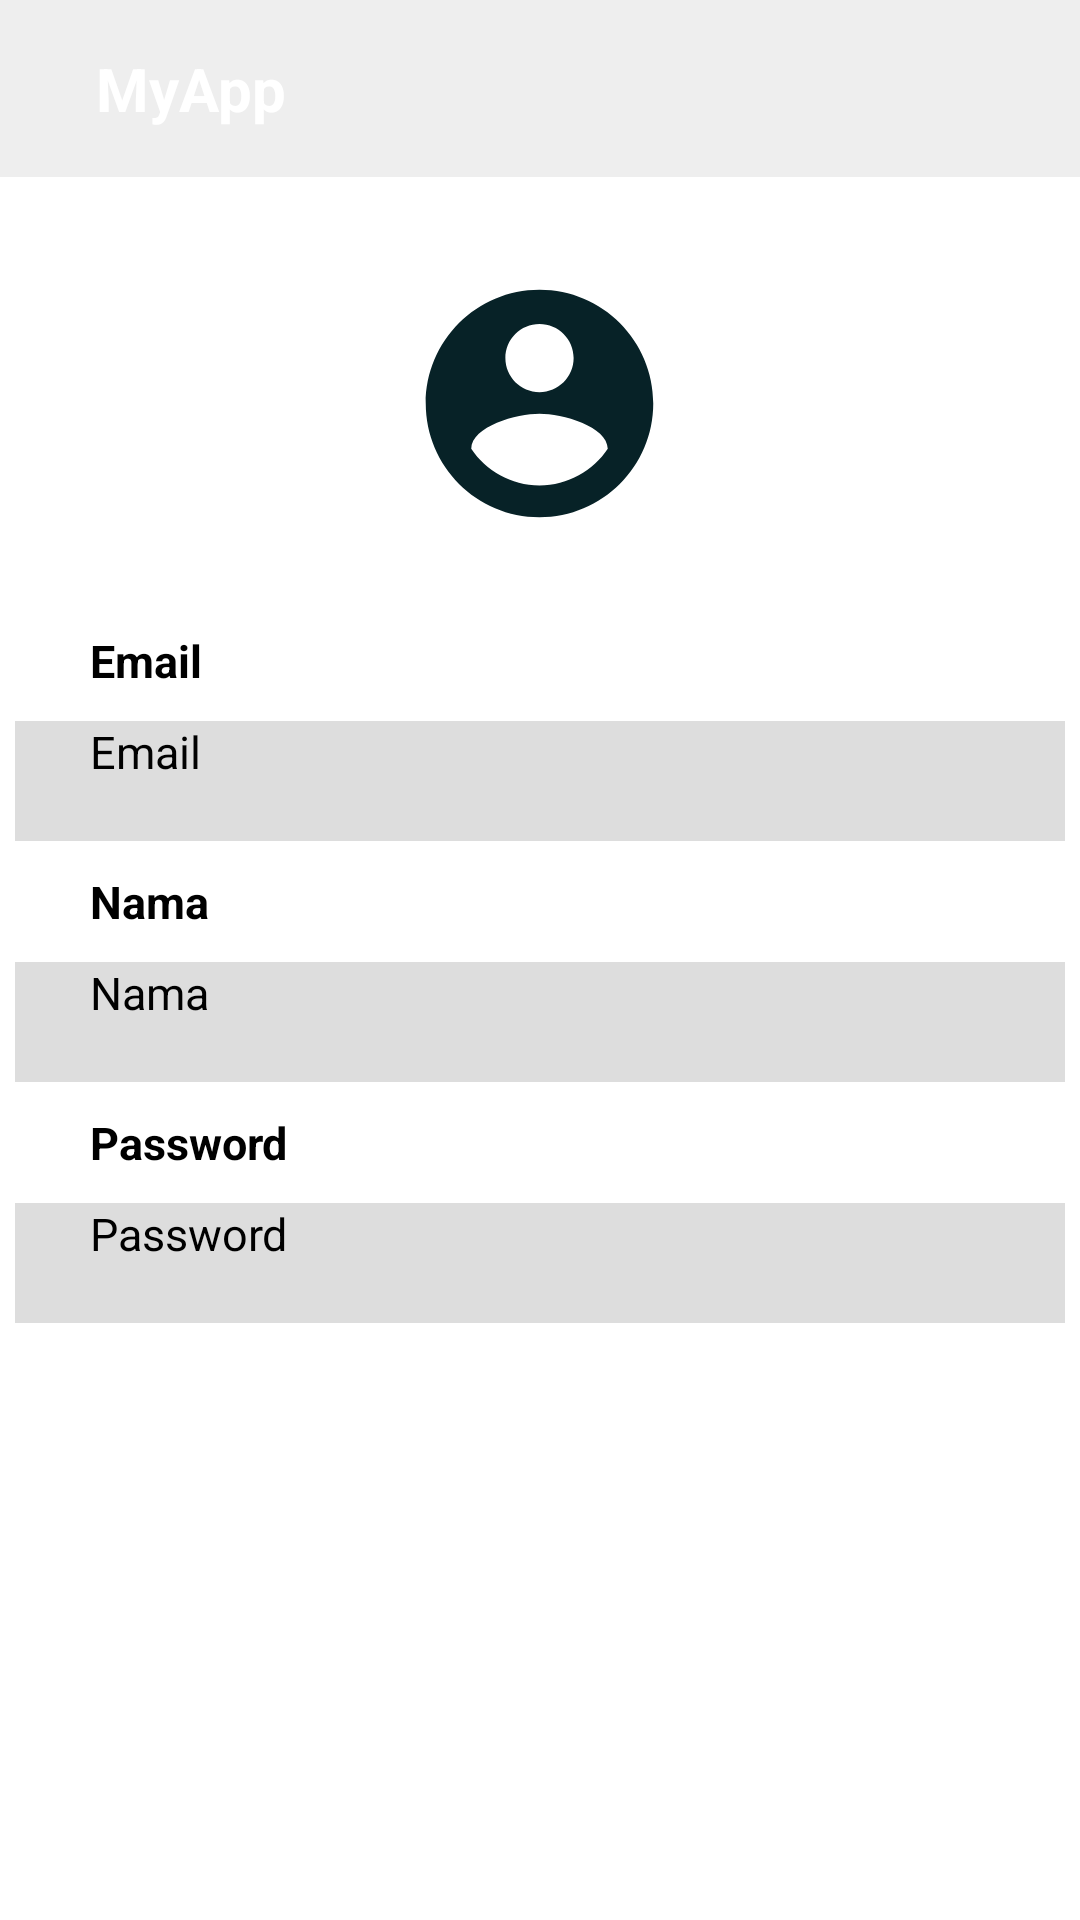

Where icons sit on this 1080 x 1920 app screen, as bbox(x1, y1, x2, y2):
account circle: bbox(425, 289, 654, 518)
